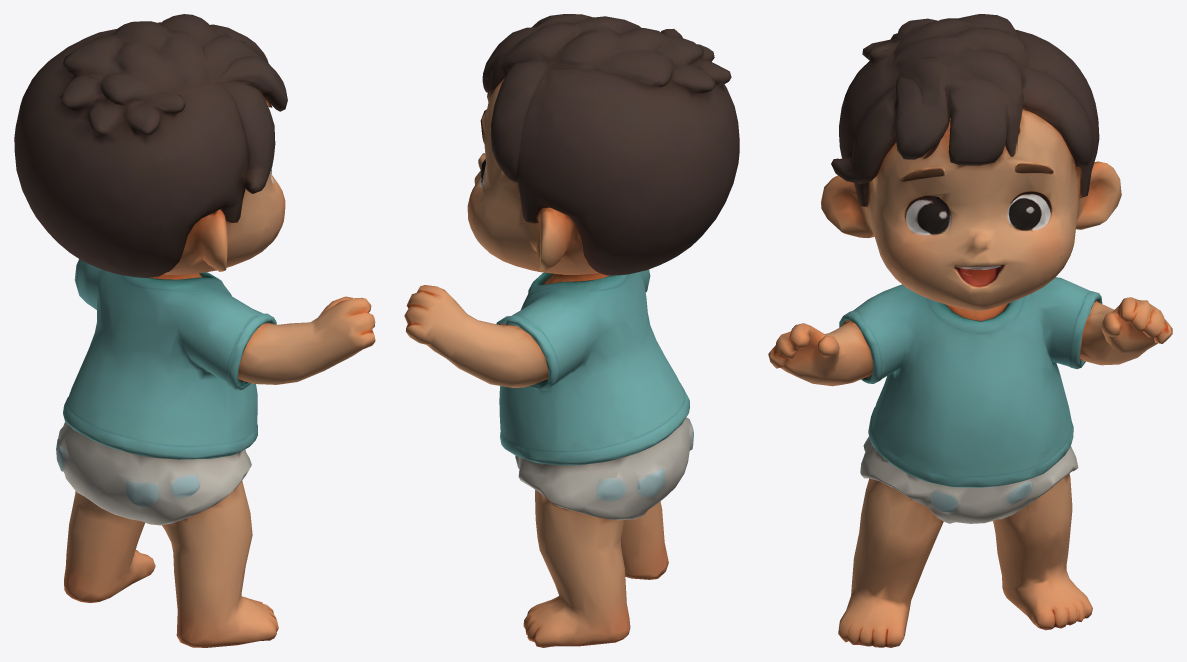
Rendered from toddler_1year.glb.
3 views of the same model, side by side, from view 1: azimuth 30°, elevation 25°; view 2: azimuth 150°, elevation 25°; view 3: azimuth 270°, elevation 25° (orthographic).
Parts seen in each view (by area): view 1: node_e4c07f8b-8672-4855-94a5-0cdf9731ffd2; view 2: node_e4c07f8b-8672-4855-94a5-0cdf9731ffd2; view 3: node_e4c07f8b-8672-4855-94a5-0cdf9731ffd2.
Boxes of the visible parts, x1,y1,x2,y2 form: node_e4c07f8b-8672-4855-94a5-0cdf9731ffd2: [14, 14, 375, 647]; node_e4c07f8b-8672-4855-94a5-0cdf9731ffd2: [404, 14, 739, 647]; node_e4c07f8b-8672-4855-94a5-0cdf9731ffd2: [768, 14, 1172, 647].
Bounding box in the file's own units: 0.455 × 1 × 0.6273.
1 material, 1 textured.
